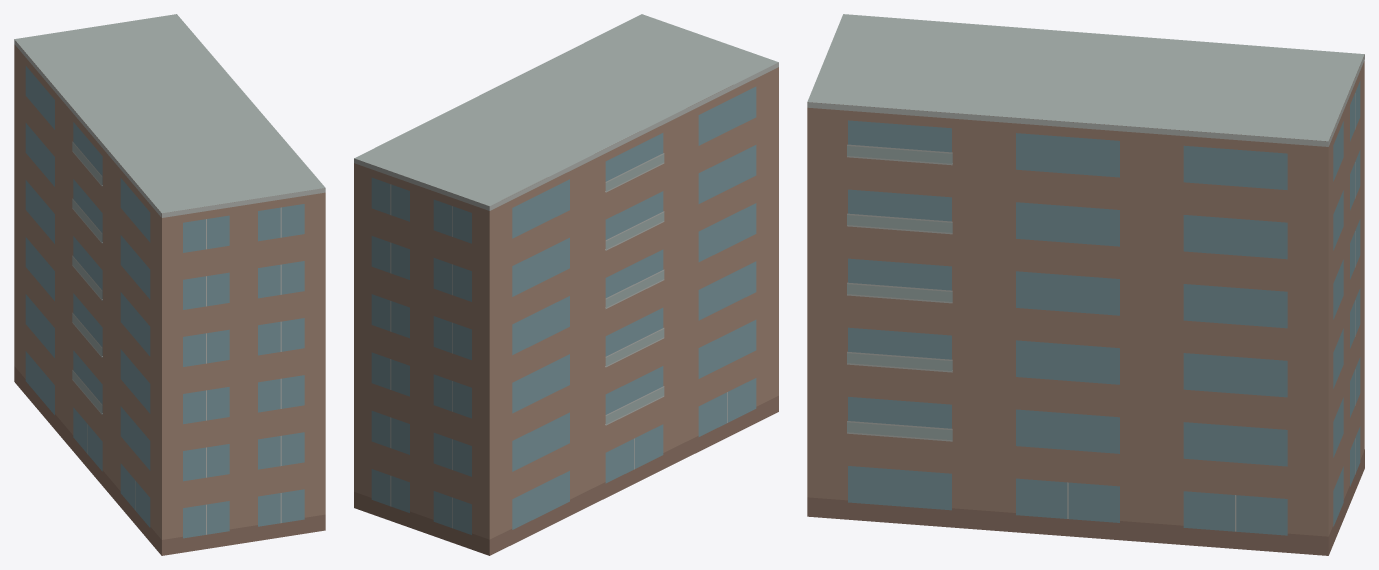
The model's file is survey-upis-32713656.glb.
3 renders of one model, left to right at view 1: azimuth 30°, elevation 25°; view 2: azimuth 150°, elevation 25°; view 3: azimuth 270°, elevation 25°, orthographic. The views are drawn at different scales.
Visible parts, largest first — view 1: survey-upis-32713656.tmp; view 2: survey-upis-32713656.tmp; view 3: survey-upis-32713656.tmp.
Boxes of the visible parts, x1,y1,x2,y2 form: survey-upis-32713656.tmp: [14, 14, 325, 555]; survey-upis-32713656.tmp: [354, 14, 778, 555]; survey-upis-32713656.tmp: [807, 14, 1364, 555].
Size of the model in its own units: 11.73 by 17.8 by 21.7.
